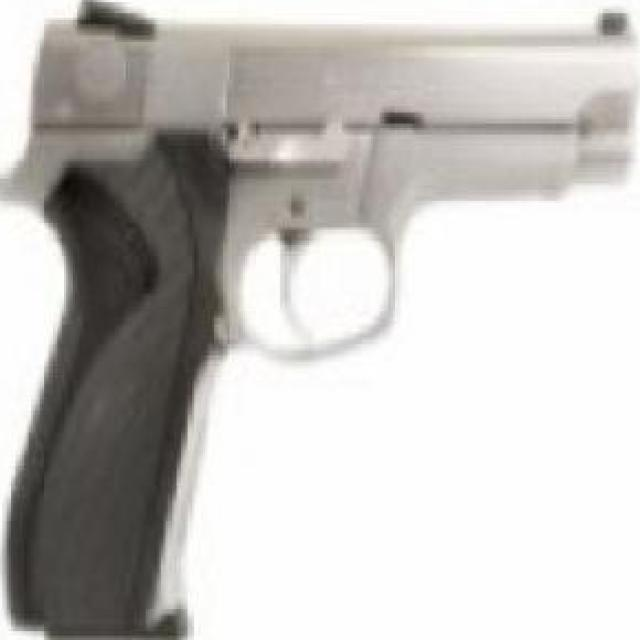pistol: (6, 2, 626, 640)
